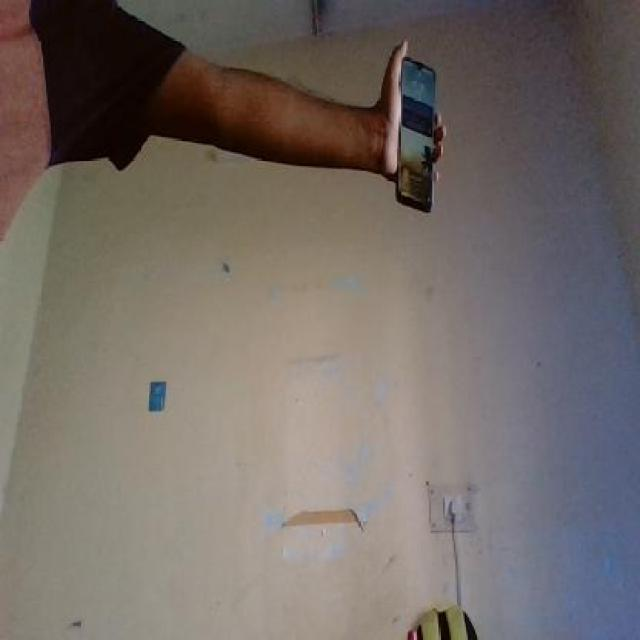Phone: (389, 58, 441, 216)
